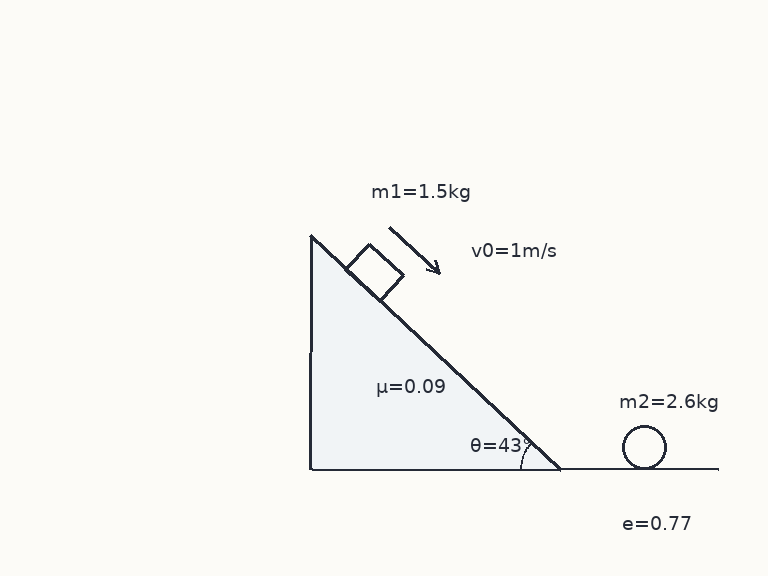ball: (620, 423, 668, 471)
block: (344, 241, 405, 302)
ramp: (309, 234, 563, 471)
